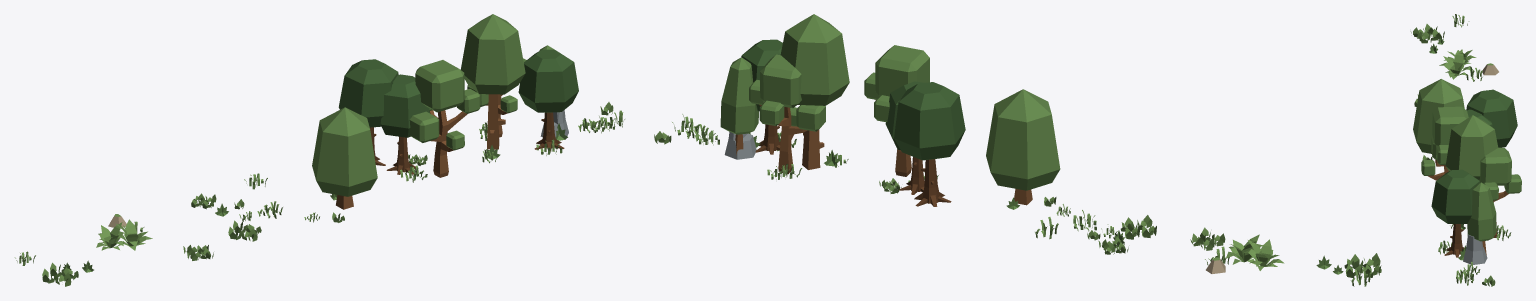
The model's file is cell_x-3_z2_render.gltf.
3 views of the same model, side by side, from view 1: azimuth 30°, elevation 25°; view 2: azimuth 150°, elevation 25°; view 3: azimuth 270°, elevation 25° (orthographic). The views are drawn at different scales.
Parts seen in each view (by area): view 1: cell_x-3_z2; view 2: cell_x-3_z2; view 3: cell_x-3_z2.
Part boxes in pixels (x1,y1,x2,y2): cell_x-3_z2: (14,14,624,286); cell_x-3_z2: (654,14,1381,286); cell_x-3_z2: (1410,14,1521,286).
Size of the model in its own units: 39.46 by 8.83 by 7.22.
